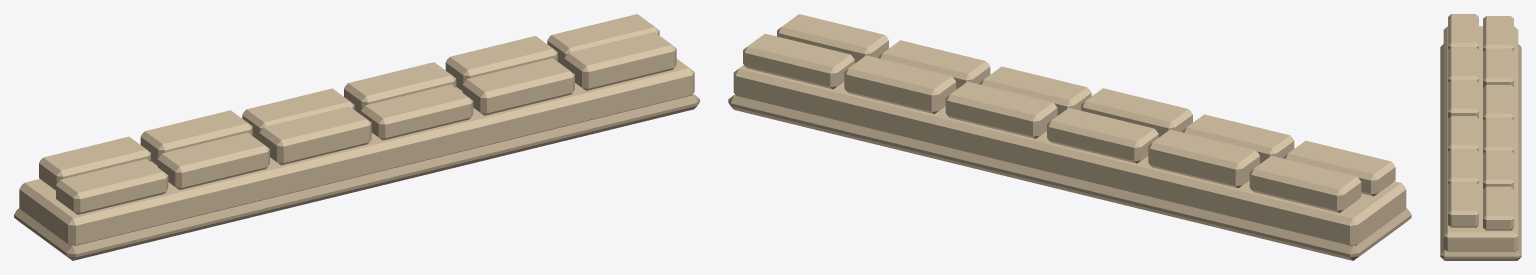
The model's file is road.glb.
3 renders of one model, left to right at view 1: azimuth 30°, elevation 25°; view 2: azimuth 150°, elevation 25°; view 3: azimuth 270°, elevation 25°, orthographic. The views are drawn at different scales.
Visible parts, largest first — view 1: Road_Asset; view 2: Road_Asset; view 3: Road_Asset.
Part boxes in pixels (left/top/right/bottom): Road_Asset: left=14, top=14, right=699, bottom=260; Road_Asset: left=728, top=14, right=1411, bottom=260; Road_Asset: left=1440, top=14, right=1521, bottom=260.
Bounding box in the file's own units: 0.884 × 0.087 × 0.144.
